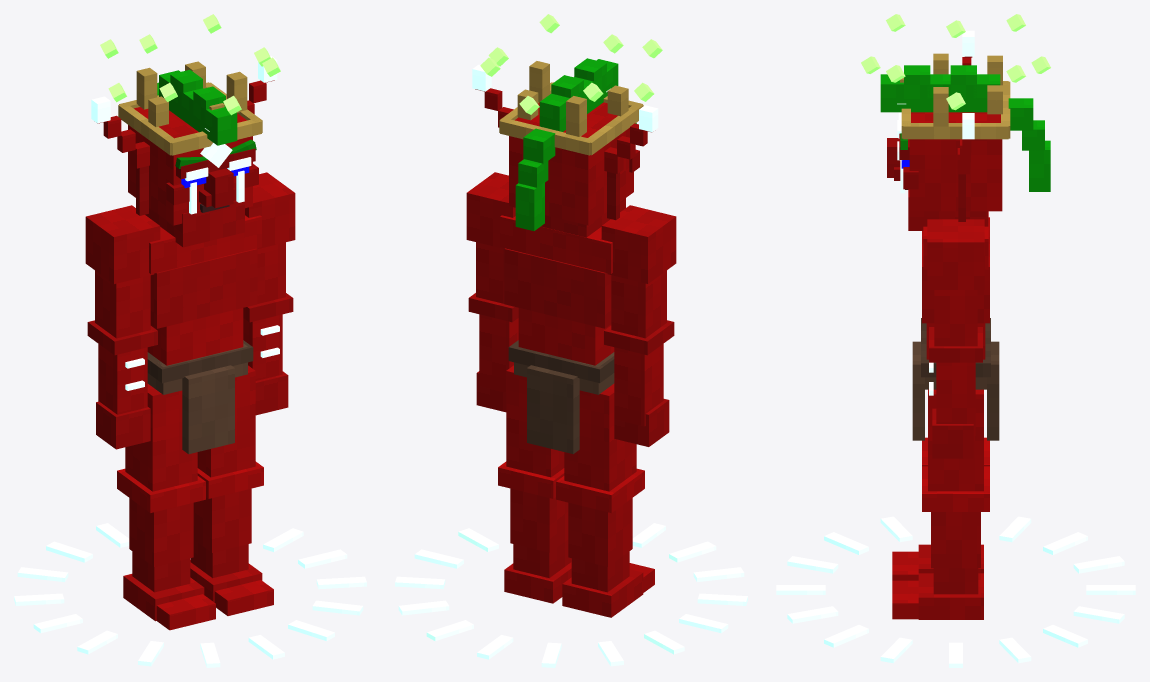
File: elf_s2_evo3.glb
3 views of the same model, side by side, from view 1: azimuth 30°, elevation 25°; view 2: azimuth 150°, elevation 25°; view 3: azimuth 270°, elevation 25° (orthographic).
Visible parts, largest first — view 1: Head, Torso, LegR, ArmR, LegL, ArmL, Root; view 2: Head, Torso, LegR, ArmR, LegL, ArmL, Root; view 3: Head, LegL, ArmL, Root, Torso, LegR.
Boxes of the visible parts, box(x1,y1,x2,y2) form: Head: box(91, 14, 280, 247); Torso: box(147, 215, 261, 454); LegR: box(117, 384, 215, 630); ArmR: box(85, 205, 160, 449); LegL: box(190, 365, 273, 615); ArmL: box(243, 172, 295, 415); Root: box(14, 523, 366, 667); Head: box(472, 14, 662, 237); Torso: box(500, 215, 614, 454); LegR: box(556, 383, 654, 617); ArmR: box(601, 205, 676, 446); LegL: box(498, 365, 571, 603); ArmL: box(466, 172, 518, 412); Root: box(395, 523, 747, 667); Head: box(861, 14, 1050, 230); LegL: box(892, 389, 989, 619); ArmL: box(927, 219, 984, 458); Root: box(776, 516, 1135, 667); Torso: box(912, 211, 999, 440); LegR: box(892, 437, 989, 580).
Size of the model in its own units: 1.18 by 2.01 by 1.18.
Materials: 22 (22 with a texture image).
